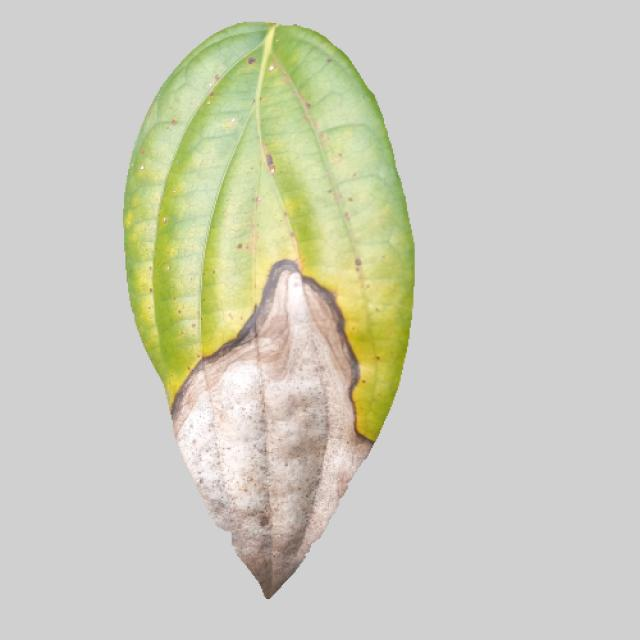leaf-blight: (96, 30, 429, 598)
